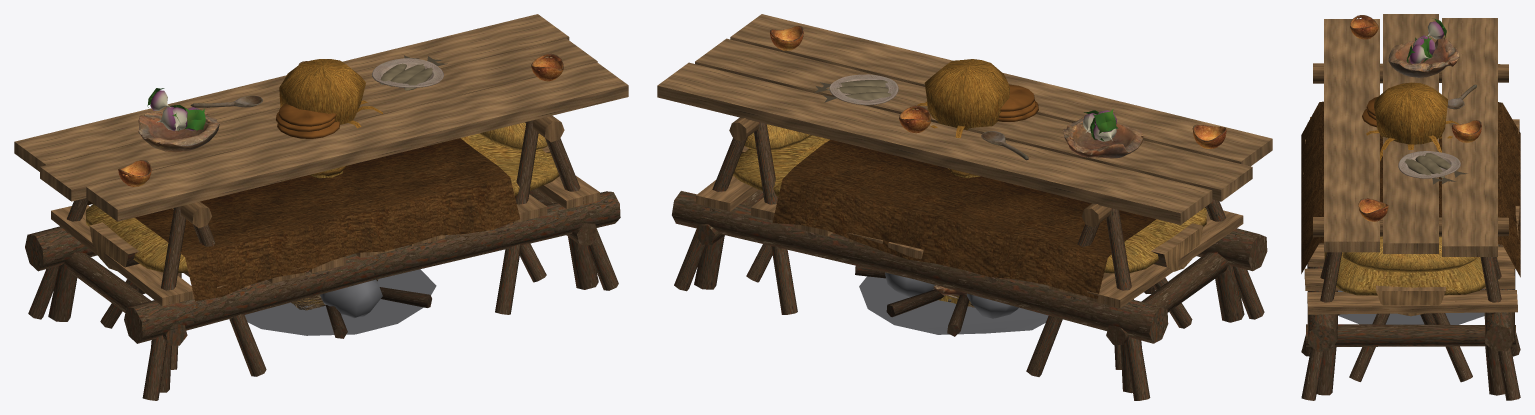
File: household.glb
3 views of the same model, side by side, from view 1: azimuth 30°, elevation 25°; view 2: azimuth 150°, elevation 25°; view 3: azimuth 270°, elevation 25° (orthographic). The views are drawn at different scales.
Visible parts, largest first — view 1: vuode, pukkipoyta, poyta_kattaus, pata, lyhde, penkki; view 2: vuode, pukkipoyta, poyta_kattaus, pata, lyhde, penkki; view 3: pukkipoyta, vuode, poyta_kattaus, lyhde, penkki, pata.
Boxes of the visible parts, x1,y1,x2,y2 form: vuode: [25, 122, 620, 392]; pukkipoyta: [14, 14, 628, 400]; poyta_kattaus: [118, 53, 563, 186]; pata: [245, 269, 436, 338]; lyhde: [279, 59, 382, 304]; penkki: [89, 146, 550, 369]; vuode: [672, 124, 1267, 393]; pukkipoyta: [657, 14, 1272, 400]; poyta_kattaus: [770, 26, 1226, 160]; pata: [855, 266, 1048, 336]; lyhde: [911, 59, 1009, 305]; penkki: [742, 146, 1203, 369]; pukkipoyta: [1301, 14, 1520, 400]; vuode: [1301, 101, 1520, 395]; poyta_kattaus: [1350, 15, 1481, 221]; lyhde: [1366, 82, 1459, 161]; penkki: [1349, 285, 1472, 382]; pata: [1338, 289, 1484, 324].
Bounding box in the file's own units: 2.35 × 1.02 × 0.9414.
12 materials, 12 textured.
